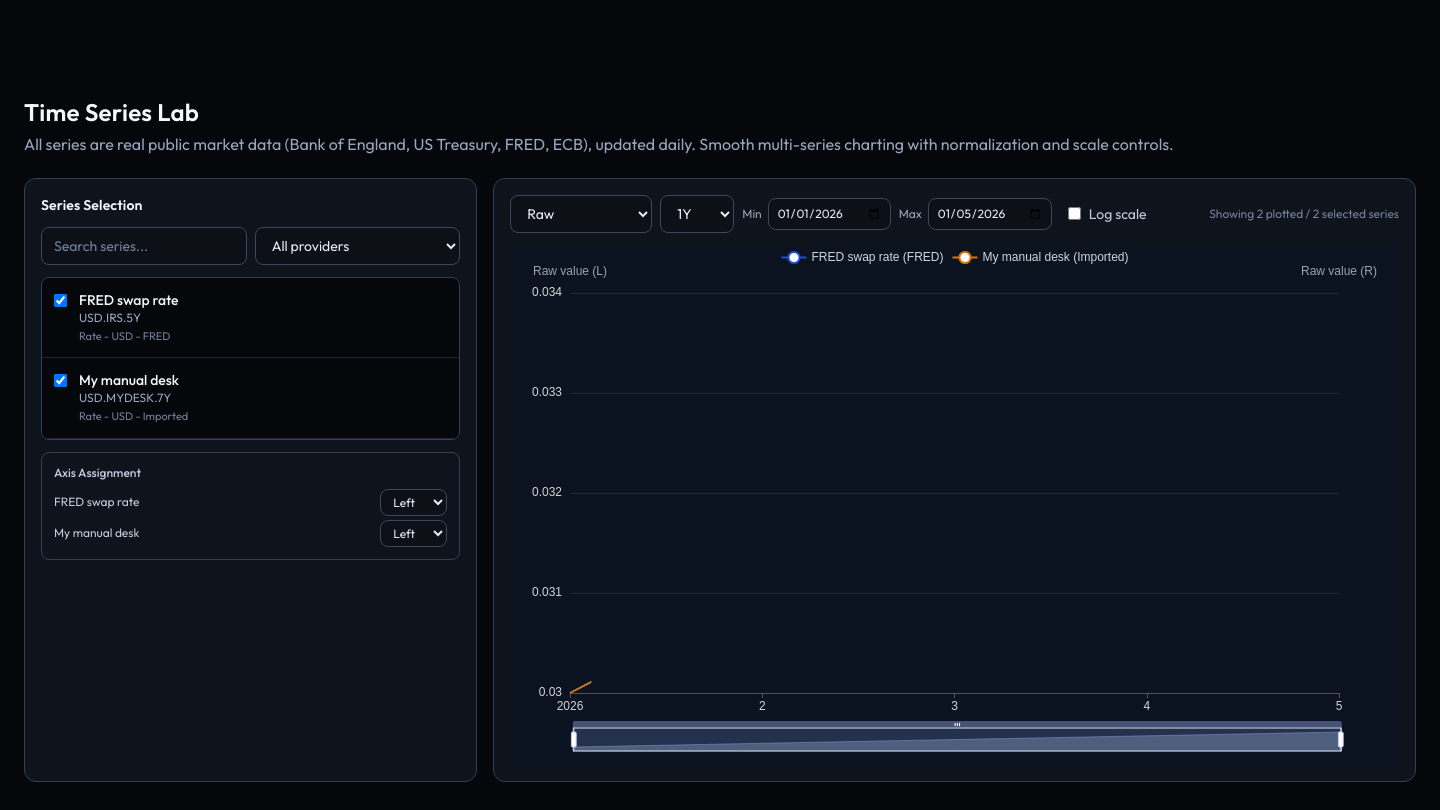
TimeSeriesLab (live data path + provider attribution) › filters by PROVIDER: FRED (real public data) vs Imported (manual)
Check: the text "USD.IRS.5Y" is shown, box [79, 310, 141, 325]
Check: the text "USD.MYDESK.7Y" is shown, box [79, 390, 171, 405]
// Filter to "Imported" → only the user-supplied (manual) series survives.
Select "Imported" in the 3rd dropdown showing "All providers" at {"x": 358, "y": 246}, box [255, 227, 460, 265]
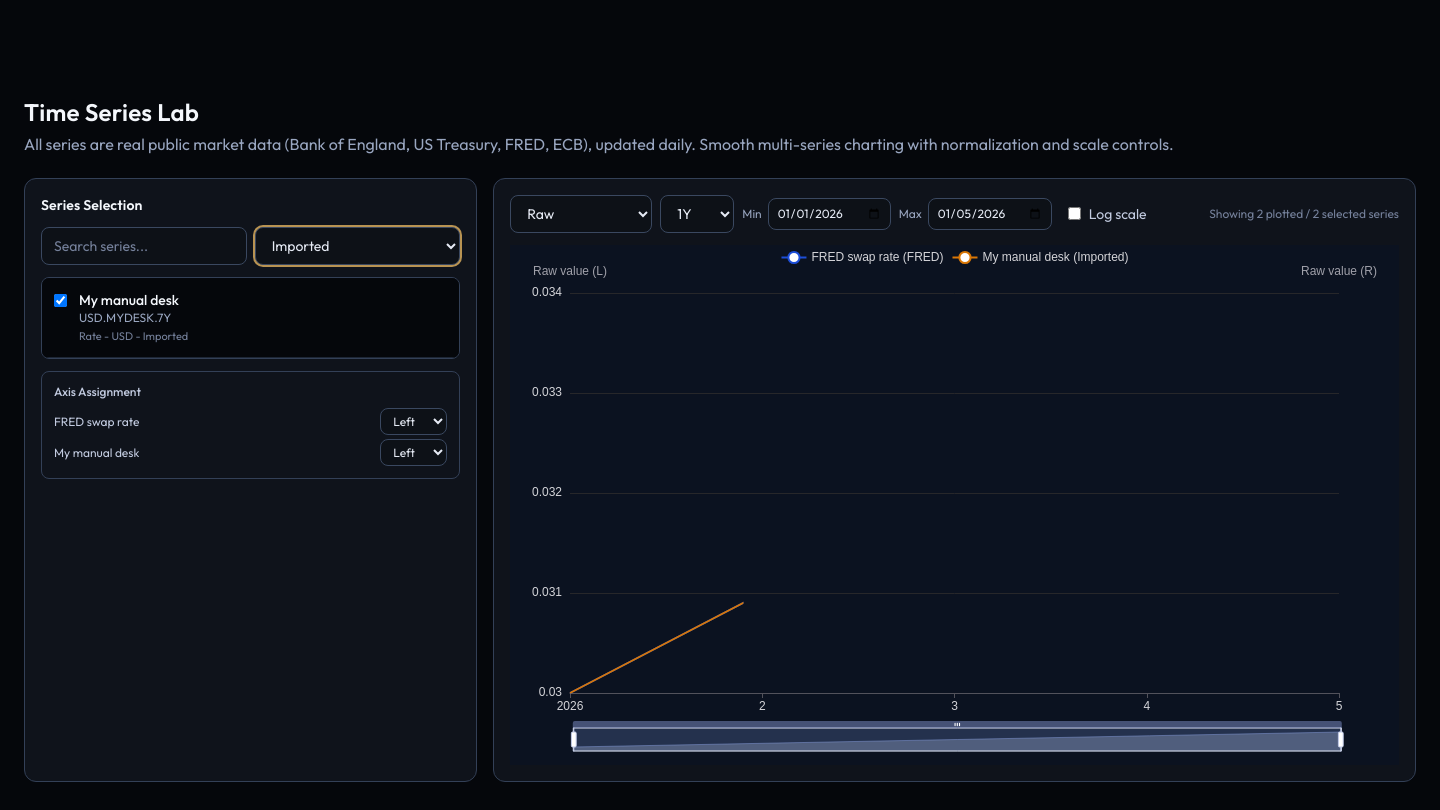
Check: the text "USD.MYDESK.7Y" is shown, box [79, 310, 171, 325]
Check: the text "USD.IRS.5Y" is gone
// Filter to "FRED" → only the real FRED series survives (NOT Imported).
Select "FRED" in the 3rd dropdown showing "Imported" at {"x": 358, "y": 246}, box [255, 227, 460, 265]
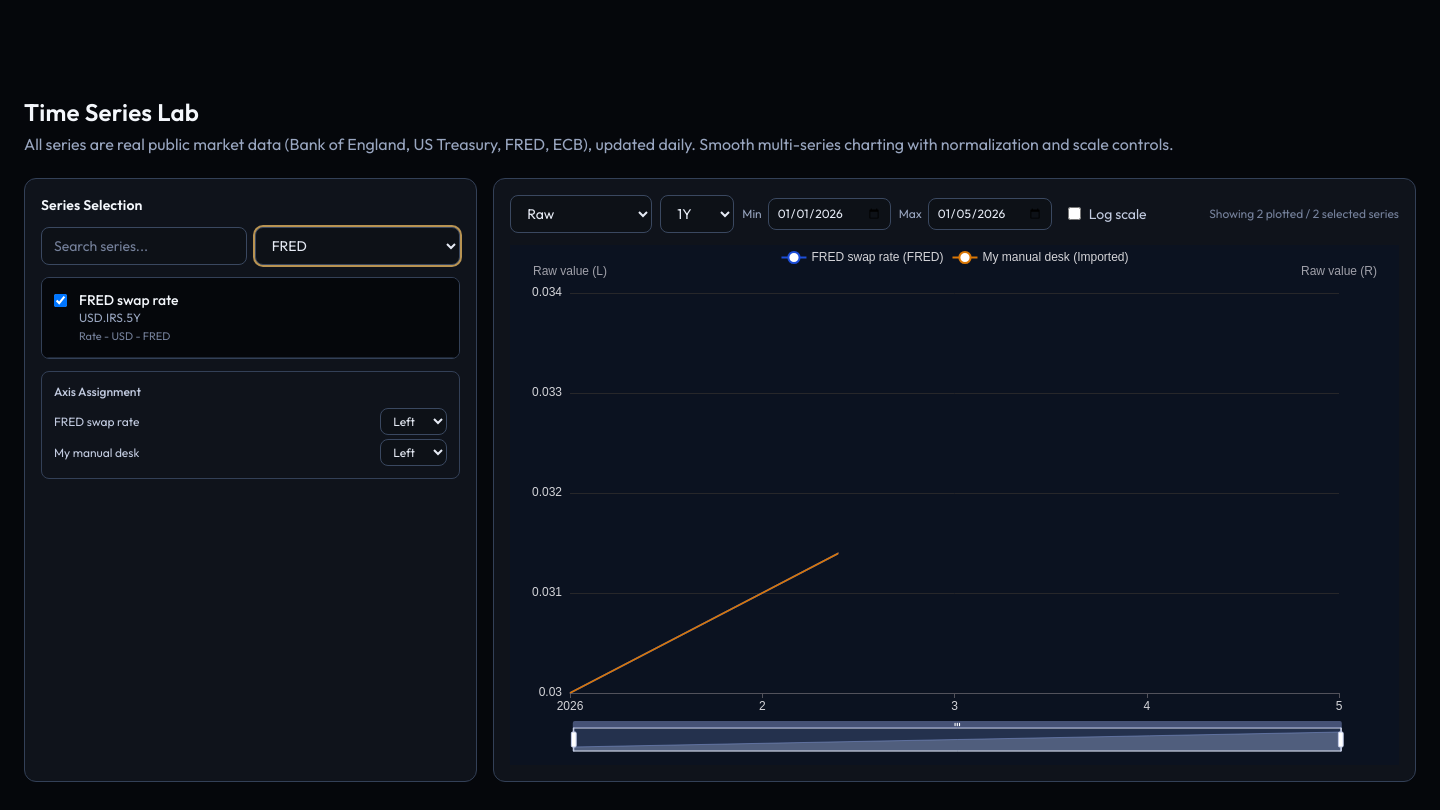
Check: the text "USD.MYDESK.7Y" is gone
Check: the text "USD.IRS.5Y" is shown, box [79, 310, 141, 325]
